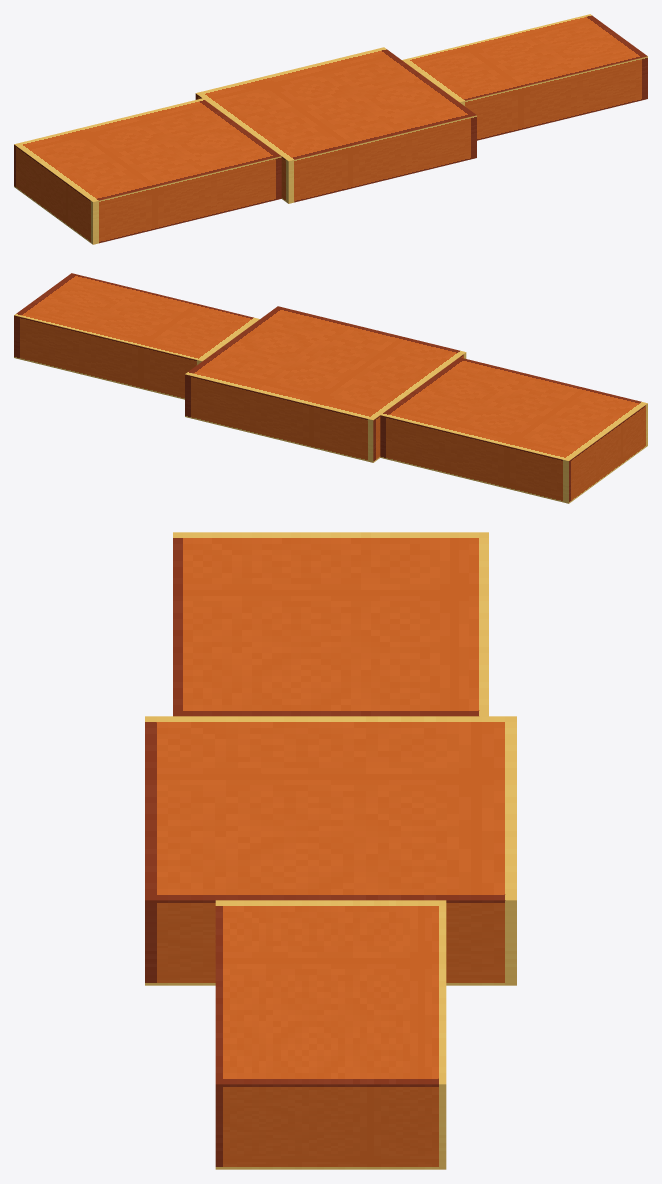
The model's file is bench_chilian_lihuo_sword_0_hot.obj.
The picture shows the model from 3 angles, top to bottom: view 1: azimuth 30°, elevation 25°; view 2: azimuth 150°, elevation 25°; view 3: azimuth 270°, elevation 25°; orthographic projection. The views are drawn at different scales.
Parts seen in each view (by area): view 1: geometry; view 2: geometry; view 3: geometry.
Boxes of the visible parts, x1,y1,x2,y2 form: geometry: (14,14,647,244); geometry: (14,273,647,503); geometry: (145,532,516,1169).
Size of the model in its own units: 0.75 by 0.0541 by 0.2137.
